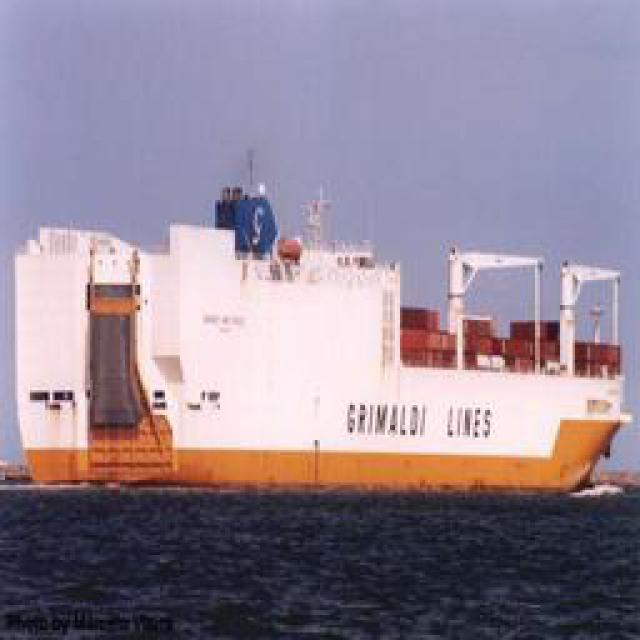Ship: (29, 177, 624, 495)
